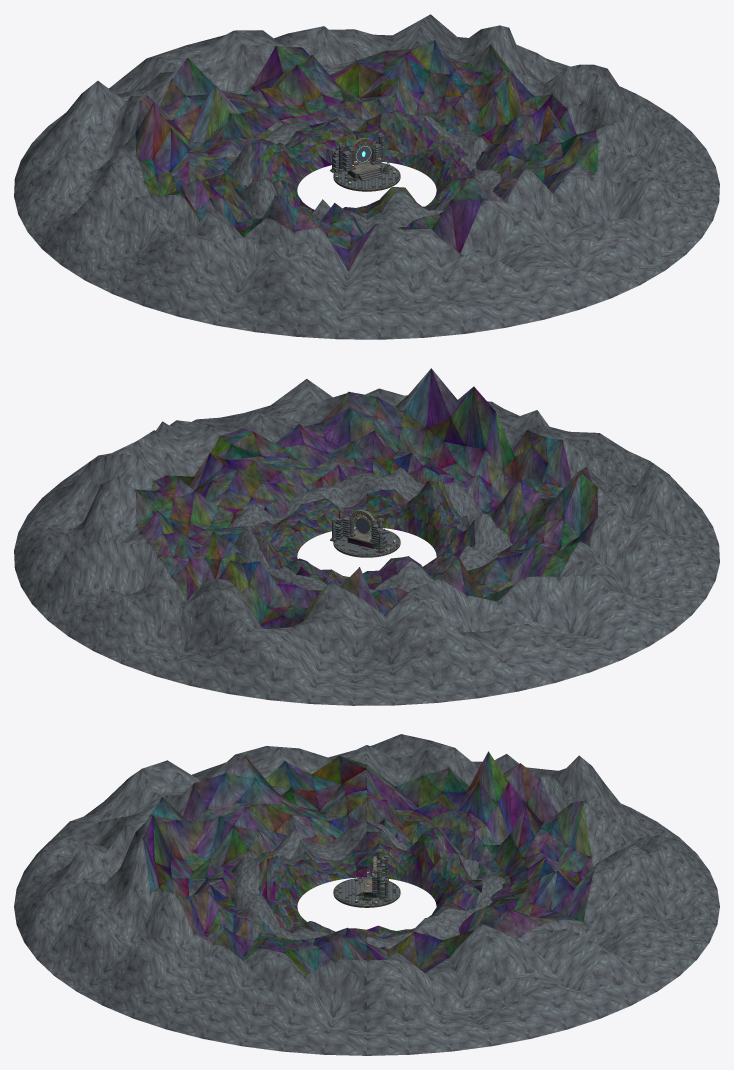
Rendered from gate.glb.
3 views of the same model, one above another, from view 1: azimuth 30°, elevation 25°; view 2: azimuth 150°, elevation 25°; view 3: azimuth 270°, elevation 25° (orthographic).
Parts seen in each view (by area): view 1: Glacial bedrock, Weathered granite, Carved limestone, Basalt; view 2: Glacial bedrock, Weathered granite, Carved limestone, Basalt; view 3: Glacial bedrock, Weathered granite, Basalt, Carved limestone.
Part boxes in pixels (<box>): Glacial bedrock: <box>14,14,719,339</box>; Weathered granite: <box>330,132,399,189</box>; Carved limestone: <box>330,134,400,190</box>; Basalt: <box>330,160,400,191</box>; Glacial bedrock: <box>14,368,719,705</box>; Weathered granite: <box>330,508,399,554</box>; Carved limestone: <box>330,509,400,556</box>; Basalt: <box>330,527,400,557</box>; Glacial bedrock: <box>14,734,719,1055</box>; Weathered granite: <box>335,849,398,905</box>; Basalt: <box>333,875,400,907</box>; Carved limestone: <box>333,850,400,906</box>.
Bounding box in the file's own units: 142 × 20.98 × 142.
Materials: 8 (5 with a texture image).
